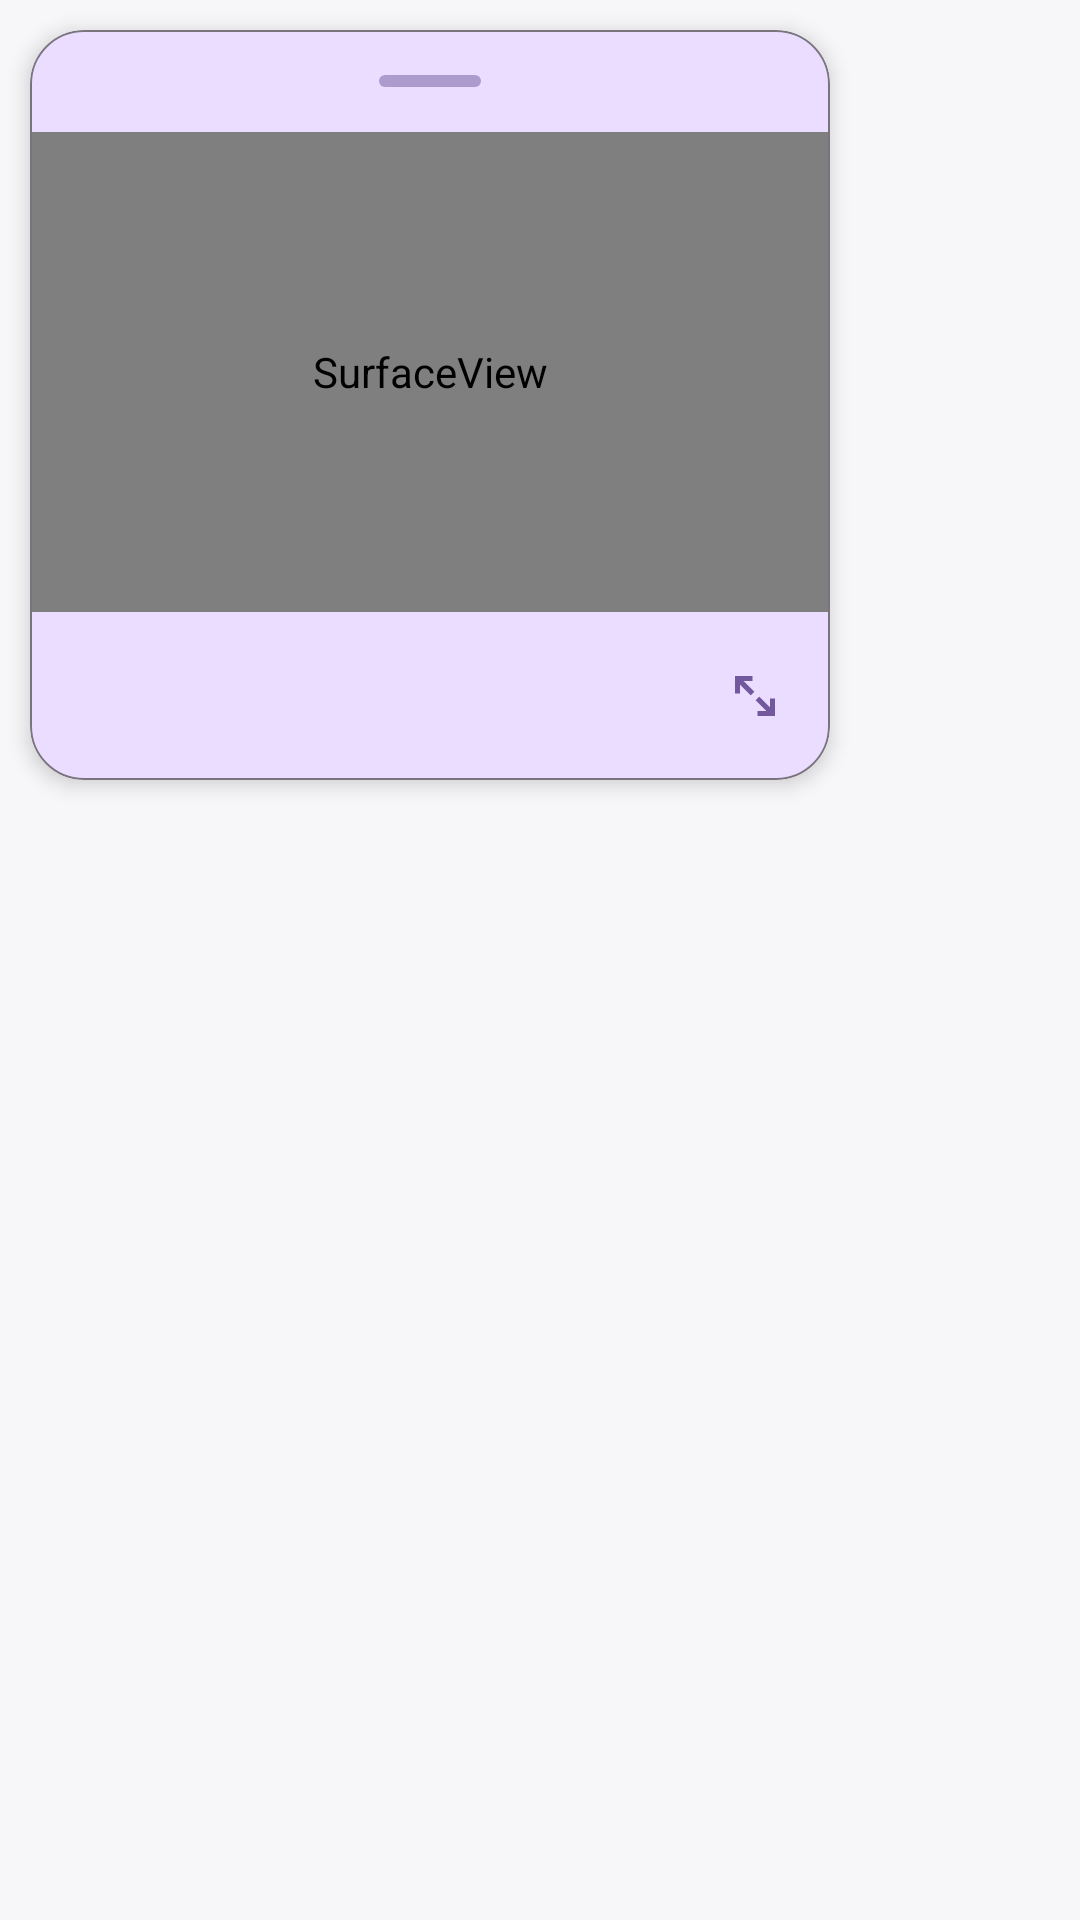

Named icons in this screenshot (1080*1920) and their centers, [x,y]:
拖动缩放，长按恢复默认大小: [755,696]
